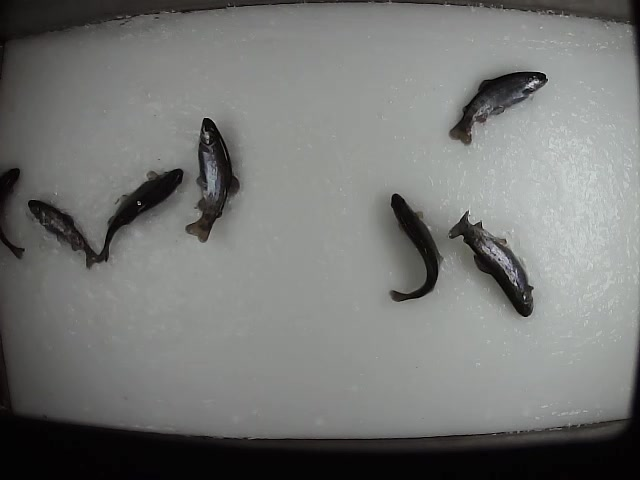fish: (446, 210, 537, 318), (97, 165, 186, 262), (445, 70, 548, 148), (183, 113, 240, 244), (383, 189, 446, 302), (25, 197, 104, 271)
